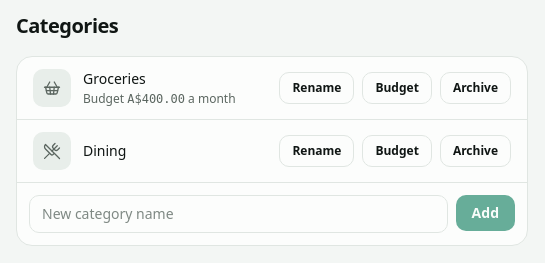
CategoryManager › budgets › closes an open budget field when a rename starts
Click the button with aria-label "Budget for Dining": (397, 151) [362,135,432,167]
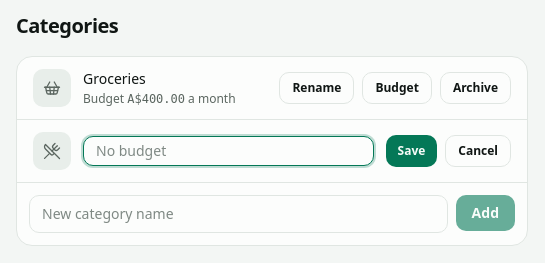
Check: the field named "Monthly budget for Dining" is shown, box [83,136,374,166]
Click the button "Rename": (317, 88) [279,72,354,104]
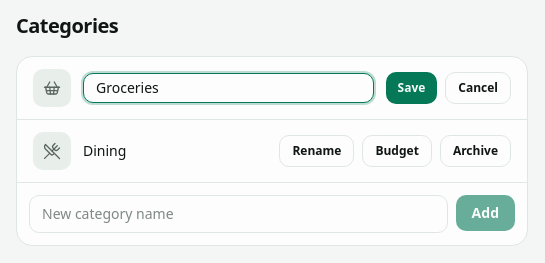
Check: the field showing "Groceries" is shown, box [83,73,374,103]
